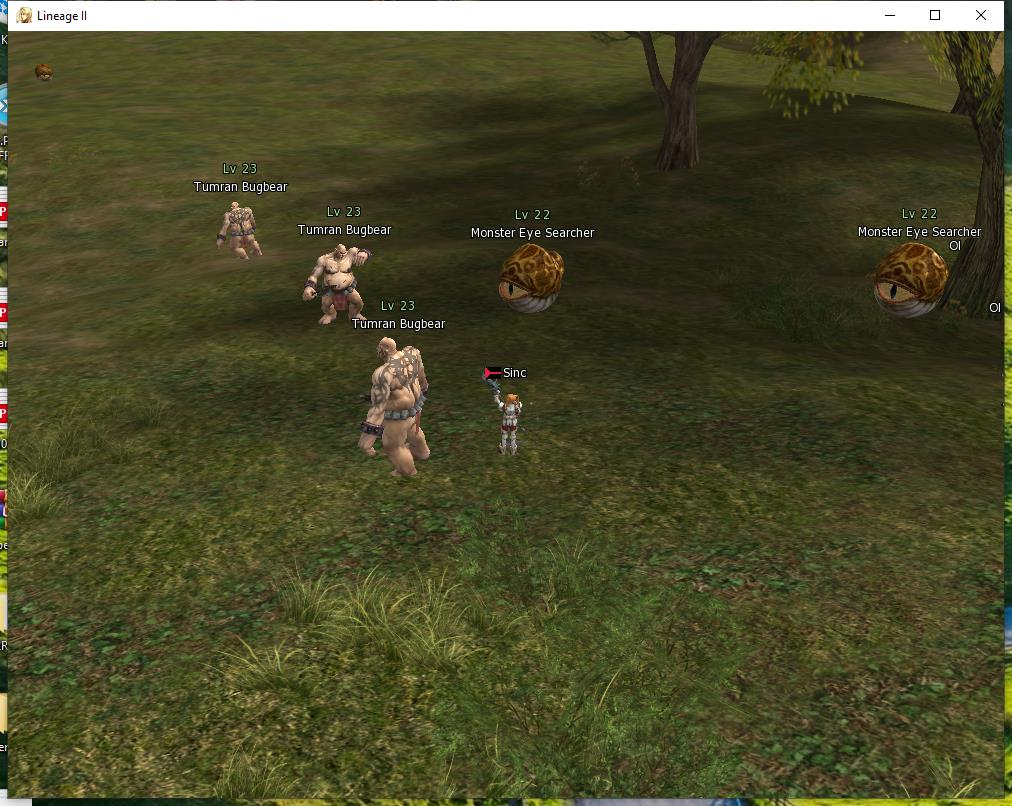monster: (338, 305, 447, 470), (458, 196, 597, 325), (850, 192, 970, 320), (290, 200, 383, 333), (182, 152, 285, 272), (29, 54, 64, 88)
